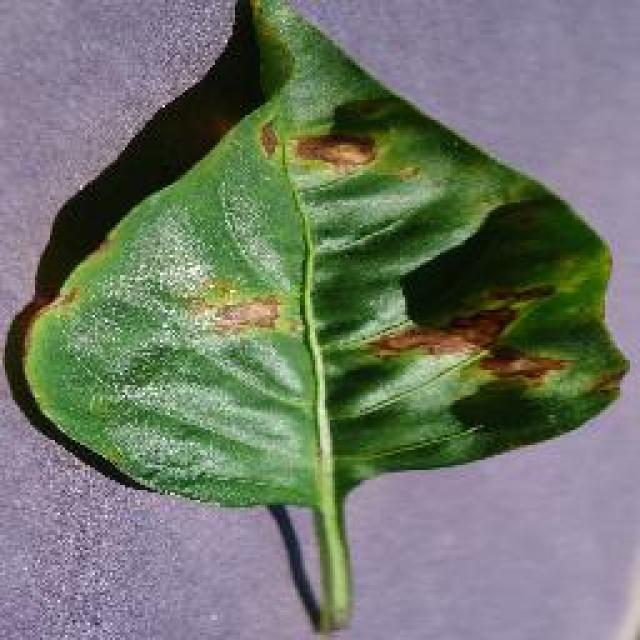Chilli_Bacterial_Spot: (10, 0, 630, 515), (360, 278, 568, 392), (252, 115, 382, 180), (180, 272, 288, 340), (360, 320, 478, 365), (472, 342, 570, 390), (290, 127, 378, 175), (445, 300, 517, 352), (202, 293, 282, 335), (252, 118, 282, 162)
